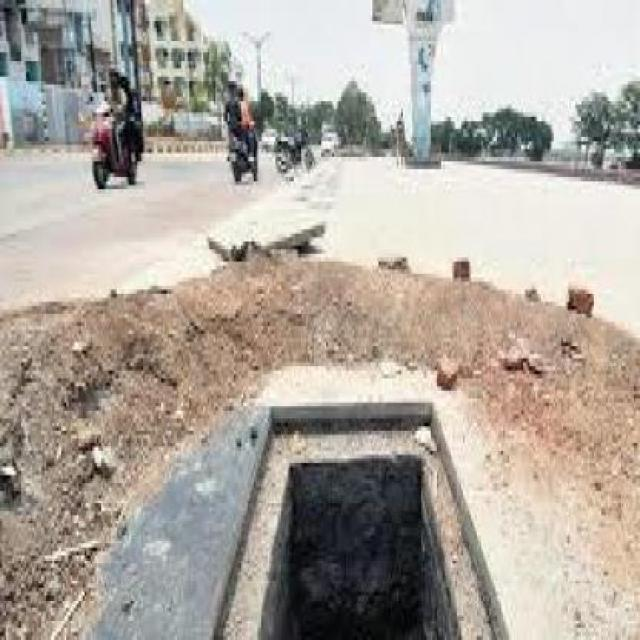Manhole: (205, 391, 518, 640)
